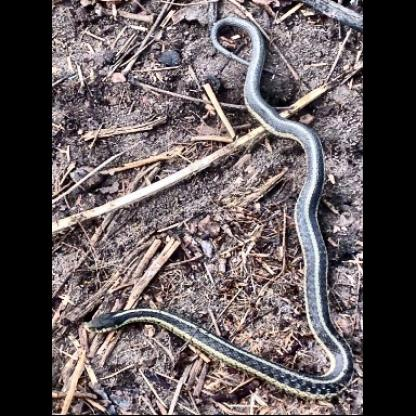Snake: (62, 13, 346, 406)
